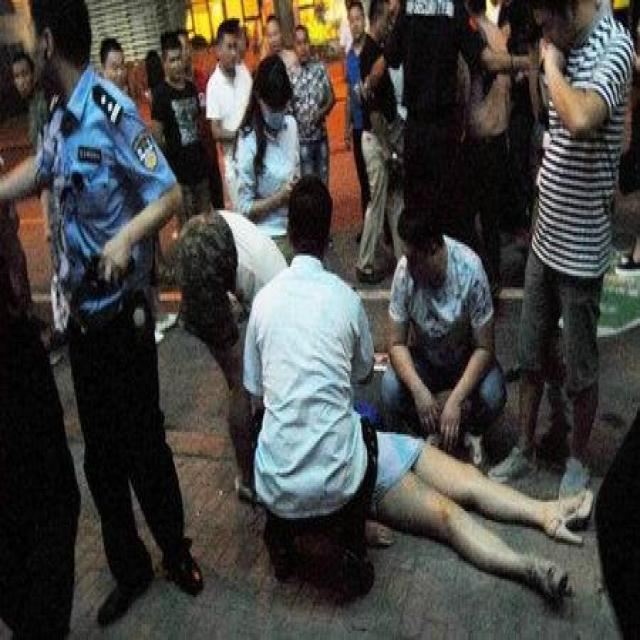10-: (0, 0, 637, 638)
down: (223, 368, 602, 620)
